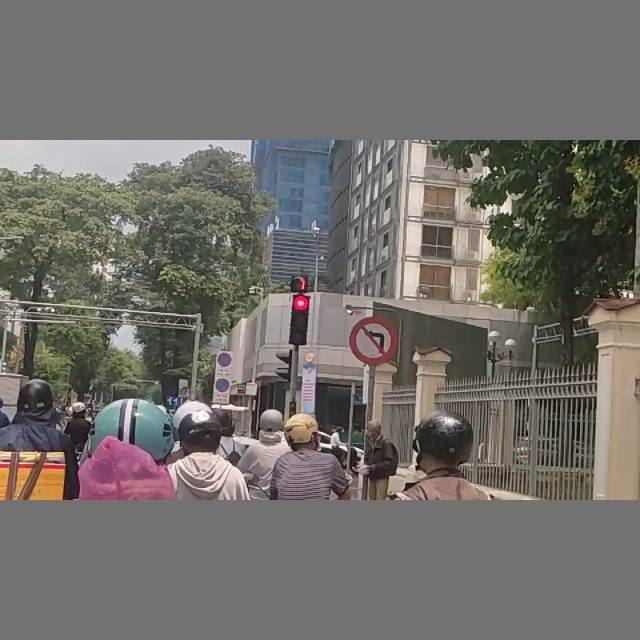P.123a: (349, 313, 398, 365)
P.130: (217, 352, 232, 367)
P.131a: (215, 379, 230, 394)
